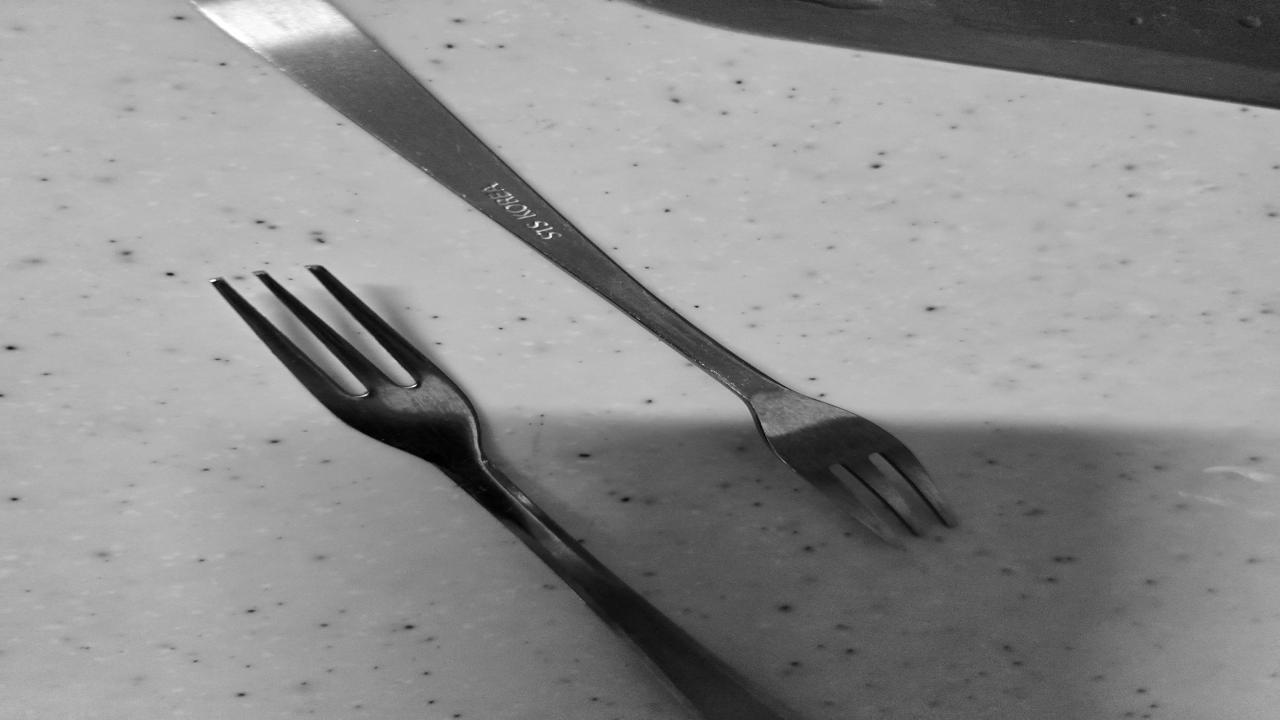fork: (178, 0, 976, 545), (206, 266, 785, 720)
